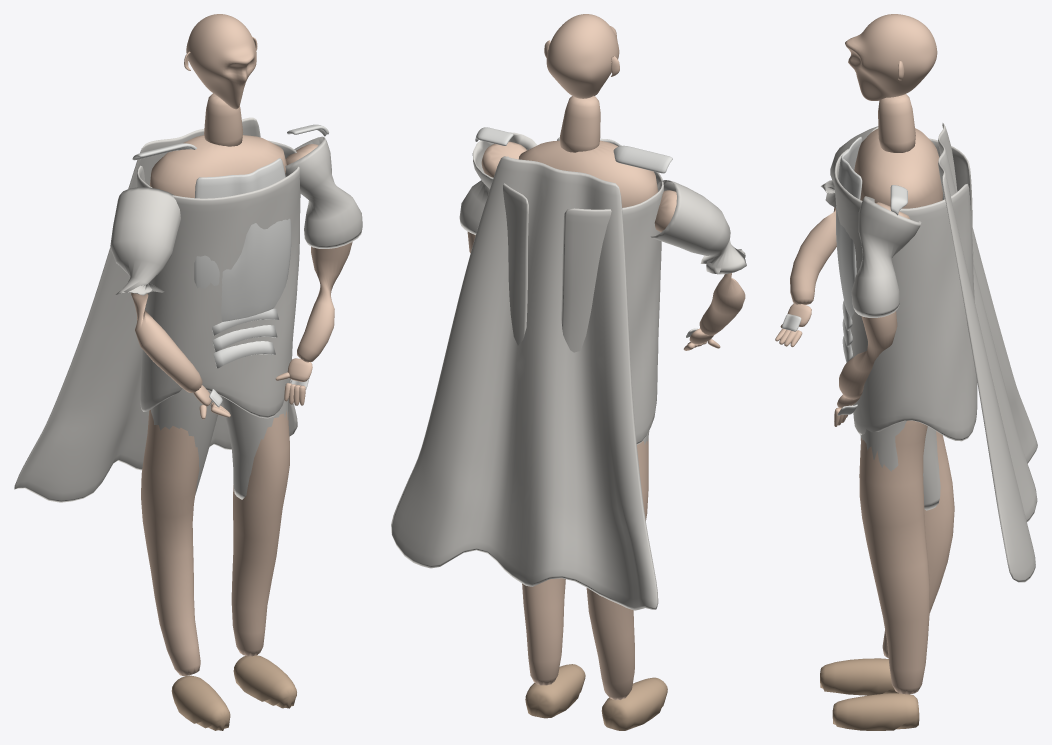
The model's file is observatory_soldier.glb.
The picture shows the model from 3 angles, left to right: view 1: azimuth 30°, elevation 25°; view 2: azimuth 150°, elevation 25°; view 3: azimuth 270°, elevation 25°; orthographic projection. The views are drawn at different scales.
Parts seen in each view (by area): view 1: Robe, Cape, LegR, LegL, Plate, SleeveR, SleeveL, Body, Head, ArmL, ArmR, BreechL (+6 smaller); view 2: Cape, Robe, Head, LegR, SleeveR, LegL, Body, BootR, ArmR, BootL, Neck, SleeveL (+2 smaller); view 3: Robe, LegL, Cape, Head, SleeveL, Body, LegR, BootL, ArmR, BootR, ArmL, Plate (+4 smaller).
Boxes of the visible parts, x1,y1,x2,y2 form: Robe: [136, 140, 300, 418]; Cape: [14, 117, 297, 502]; LegR: [141, 410, 200, 675]; LegL: [231, 410, 289, 656]; Plate: [194, 158, 291, 321]; SleeveR: [110, 187, 180, 295]; SleeveL: [285, 136, 362, 248]; Body: [150, 135, 286, 198]; Head: [186, 14, 256, 109]; ArmL: [285, 144, 352, 362]; ArmR: [131, 293, 202, 392]; BreechL: [221, 397, 287, 499]; Cape: [391, 156, 658, 610]; Robe: [503, 149, 663, 444]; Head: [546, 14, 619, 98]; LegR: [586, 438, 648, 700]; SleeveR: [651, 180, 746, 274]; LegL: [522, 578, 565, 685]; Body: [519, 140, 658, 207]; BootR: [601, 677, 667, 730]; ArmR: [654, 190, 745, 335]; BootL: [525, 664, 585, 718]; Neck: [560, 96, 600, 152]; SleeveL: [459, 132, 537, 234]; Robe: [834, 138, 977, 441]; LegL: [859, 420, 929, 694]; Cape: [938, 123, 1037, 582]; Head: [845, 14, 937, 100]; SleeveL: [851, 196, 921, 317]; Body: [854, 128, 942, 208]; LegR: [882, 431, 954, 657]; BootL: [832, 693, 919, 730]; ArmR: [790, 207, 836, 304]; BootR: [820, 658, 898, 695]; ArmL: [839, 202, 910, 399]; Plate: [836, 137, 862, 317].
Size of the model in its own units: 0.7715 by 1.84 by 0.6369.
